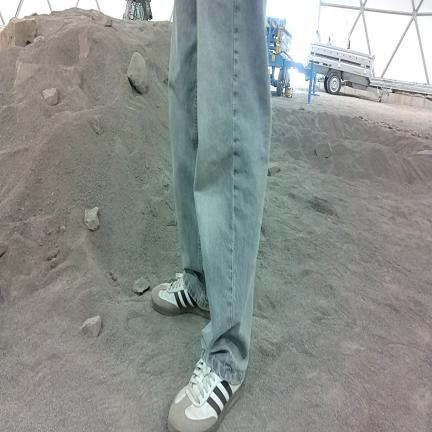Rock: (0, 18, 37, 51), (127, 52, 148, 93), (81, 316, 101, 337), (85, 207, 99, 231), (92, 10, 112, 26), (42, 88, 58, 106), (133, 277, 149, 294), (90, 115, 103, 135), (315, 143, 332, 158), (268, 162, 280, 176), (0, 244, 7, 257), (34, 36, 45, 43), (60, 225, 67, 234)
